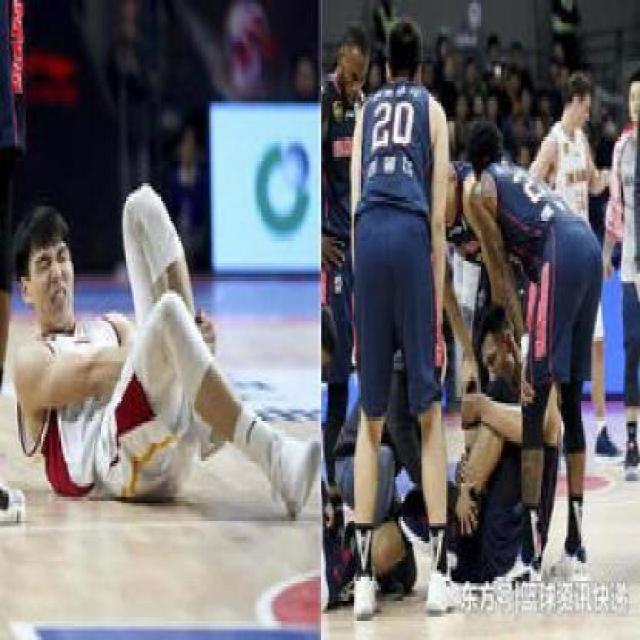fall: (378, 289, 537, 597)
